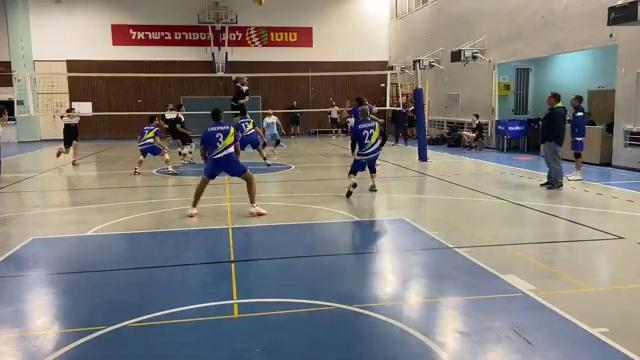ball: (253, 2, 268, 7)
